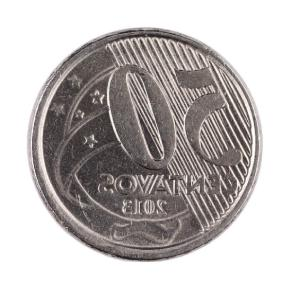50 cent: (26, 26, 263, 261)
